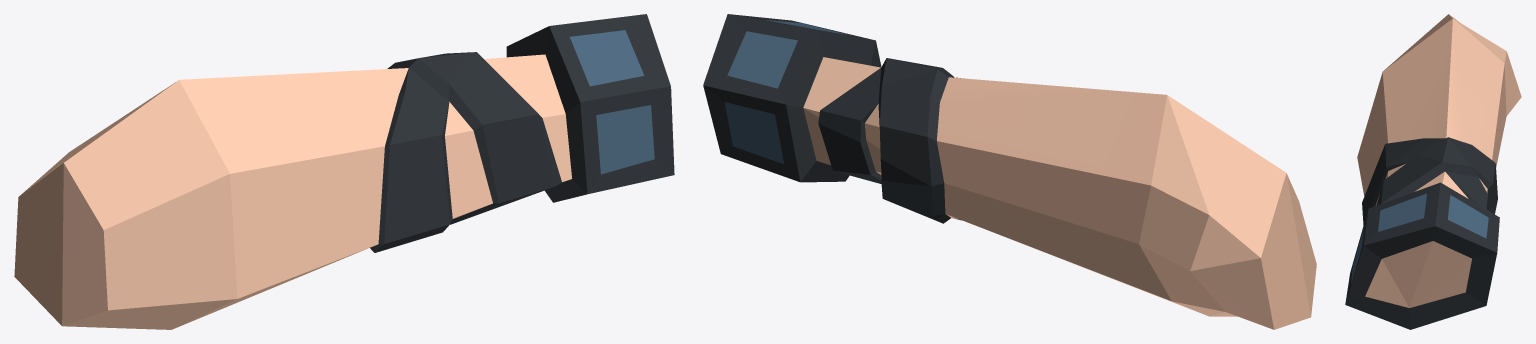
File: Chr_ArmLowerLeft_Female_13_Static.fbx
3 views of the same model, side by side, from view 1: azimuth 30°, elevation 25°; view 2: azimuth 150°, elevation 25°; view 3: azimuth 270°, elevation 25° (orthographic). The views are drawn at different scales.
Visible parts, largest first — view 1: Chr_ArmLowerLeft_Female_13_Static; view 2: Chr_ArmLowerLeft_Female_13_Static; view 3: Chr_ArmLowerLeft_Female_13_Static.
Part boxes in pixels (left/top/right/bottom): Chr_ArmLowerLeft_Female_13_Static: left=14, top=14, right=674, bottom=329; Chr_ArmLowerLeft_Female_13_Static: left=703, top=14, right=1316, bottom=329; Chr_ArmLowerLeft_Female_13_Static: left=1345, top=14, right=1521, bottom=329.
Bounding box in the file's own units: 0.2933 × 0.1093 × 0.0947.
